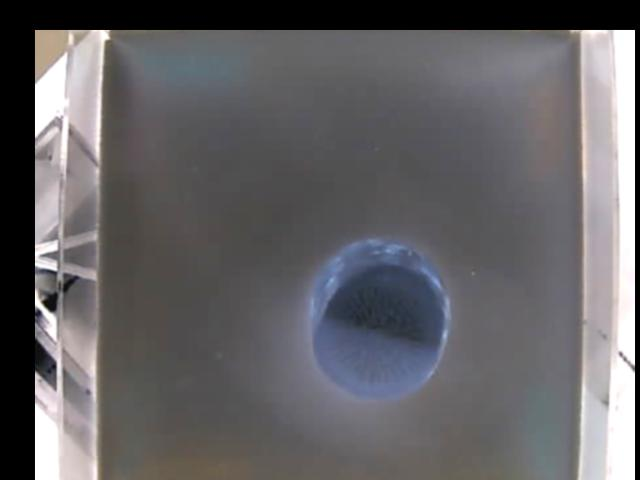Mooli: (312, 236, 450, 392)
